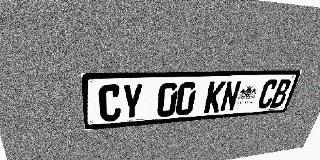0: (156, 82, 179, 117), (175, 82, 197, 116)
B: (269, 79, 292, 108)
C: (98, 84, 121, 122), (256, 79, 279, 109)
K: (203, 81, 226, 113)
N: (219, 80, 242, 112)
Y: (121, 83, 143, 120)
